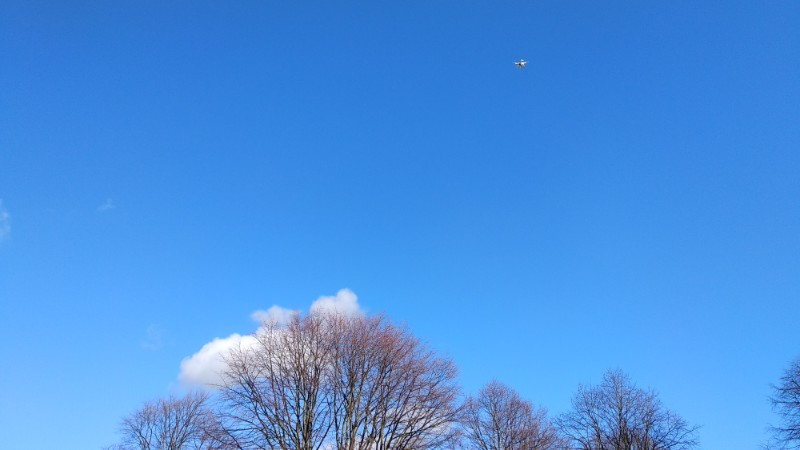drone: (515, 58, 526, 69)
